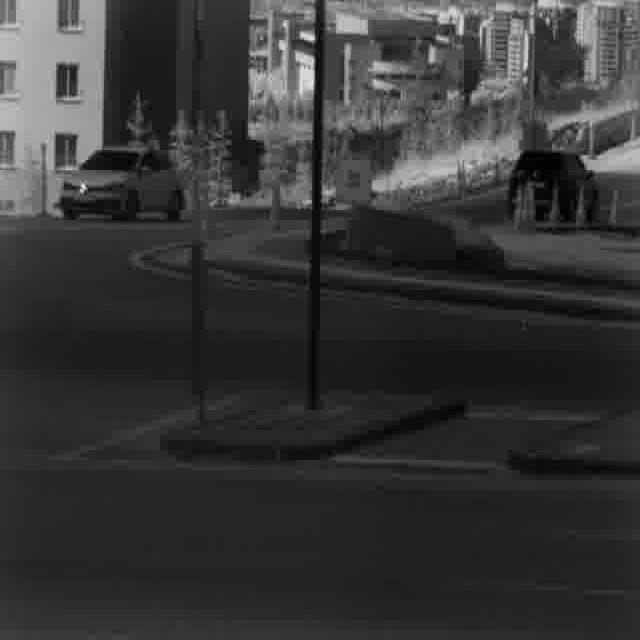Car: (60, 144, 184, 225), (502, 149, 601, 221)
